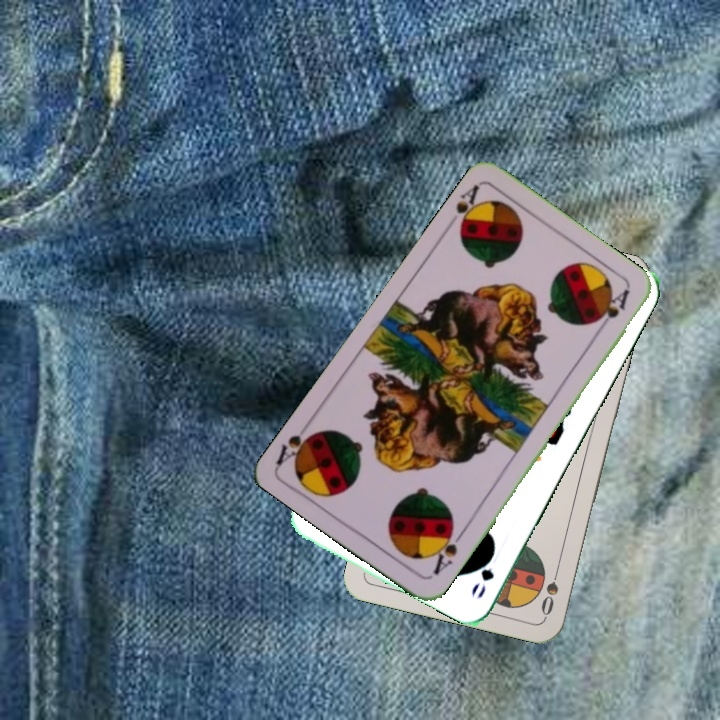GO: (467, 544, 498, 601)
SA: (428, 522, 467, 578), (451, 180, 488, 239)
SO: (537, 561, 563, 619)
